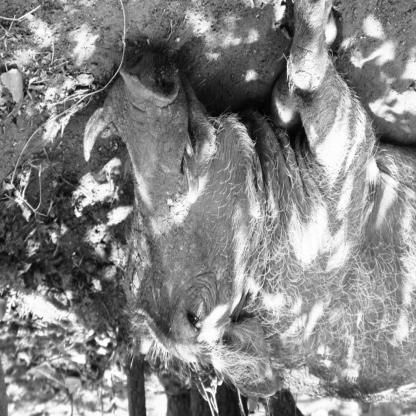boar: (82, 1, 415, 407)
